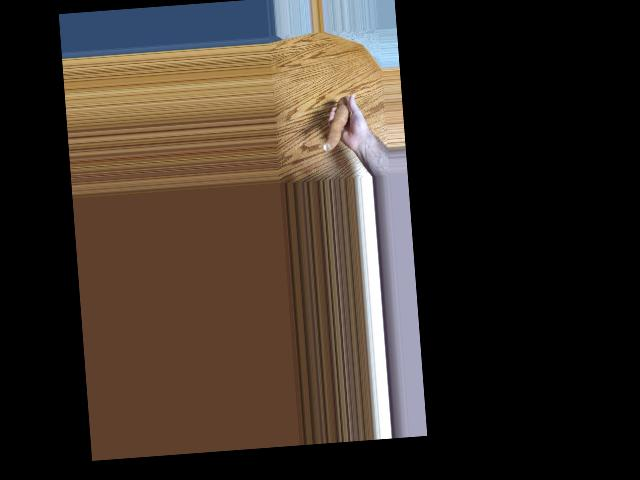sweet_potato: (319, 98, 353, 154)
